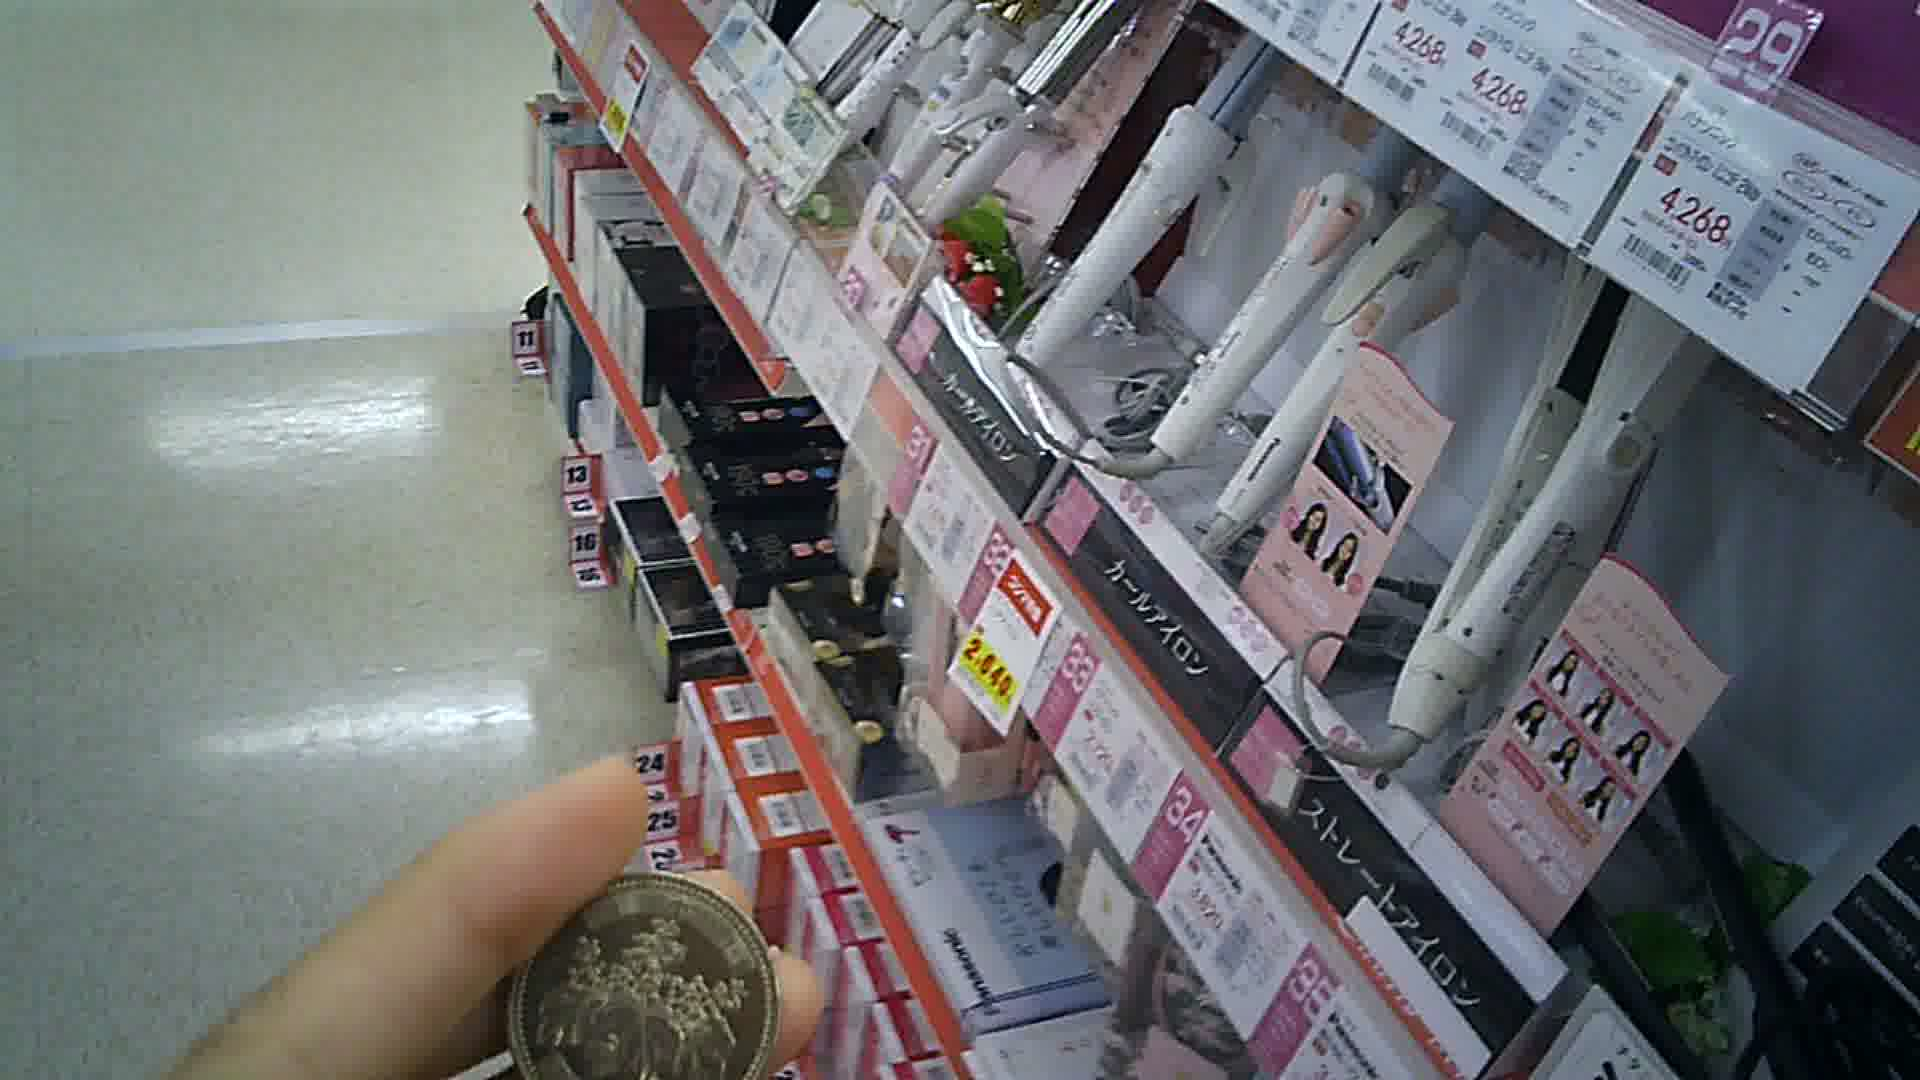500 Yen: (501, 858, 793, 1079)
